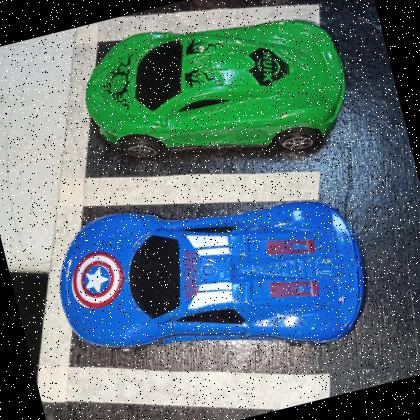Car: (58, 201, 366, 349), (85, 19, 345, 150)
